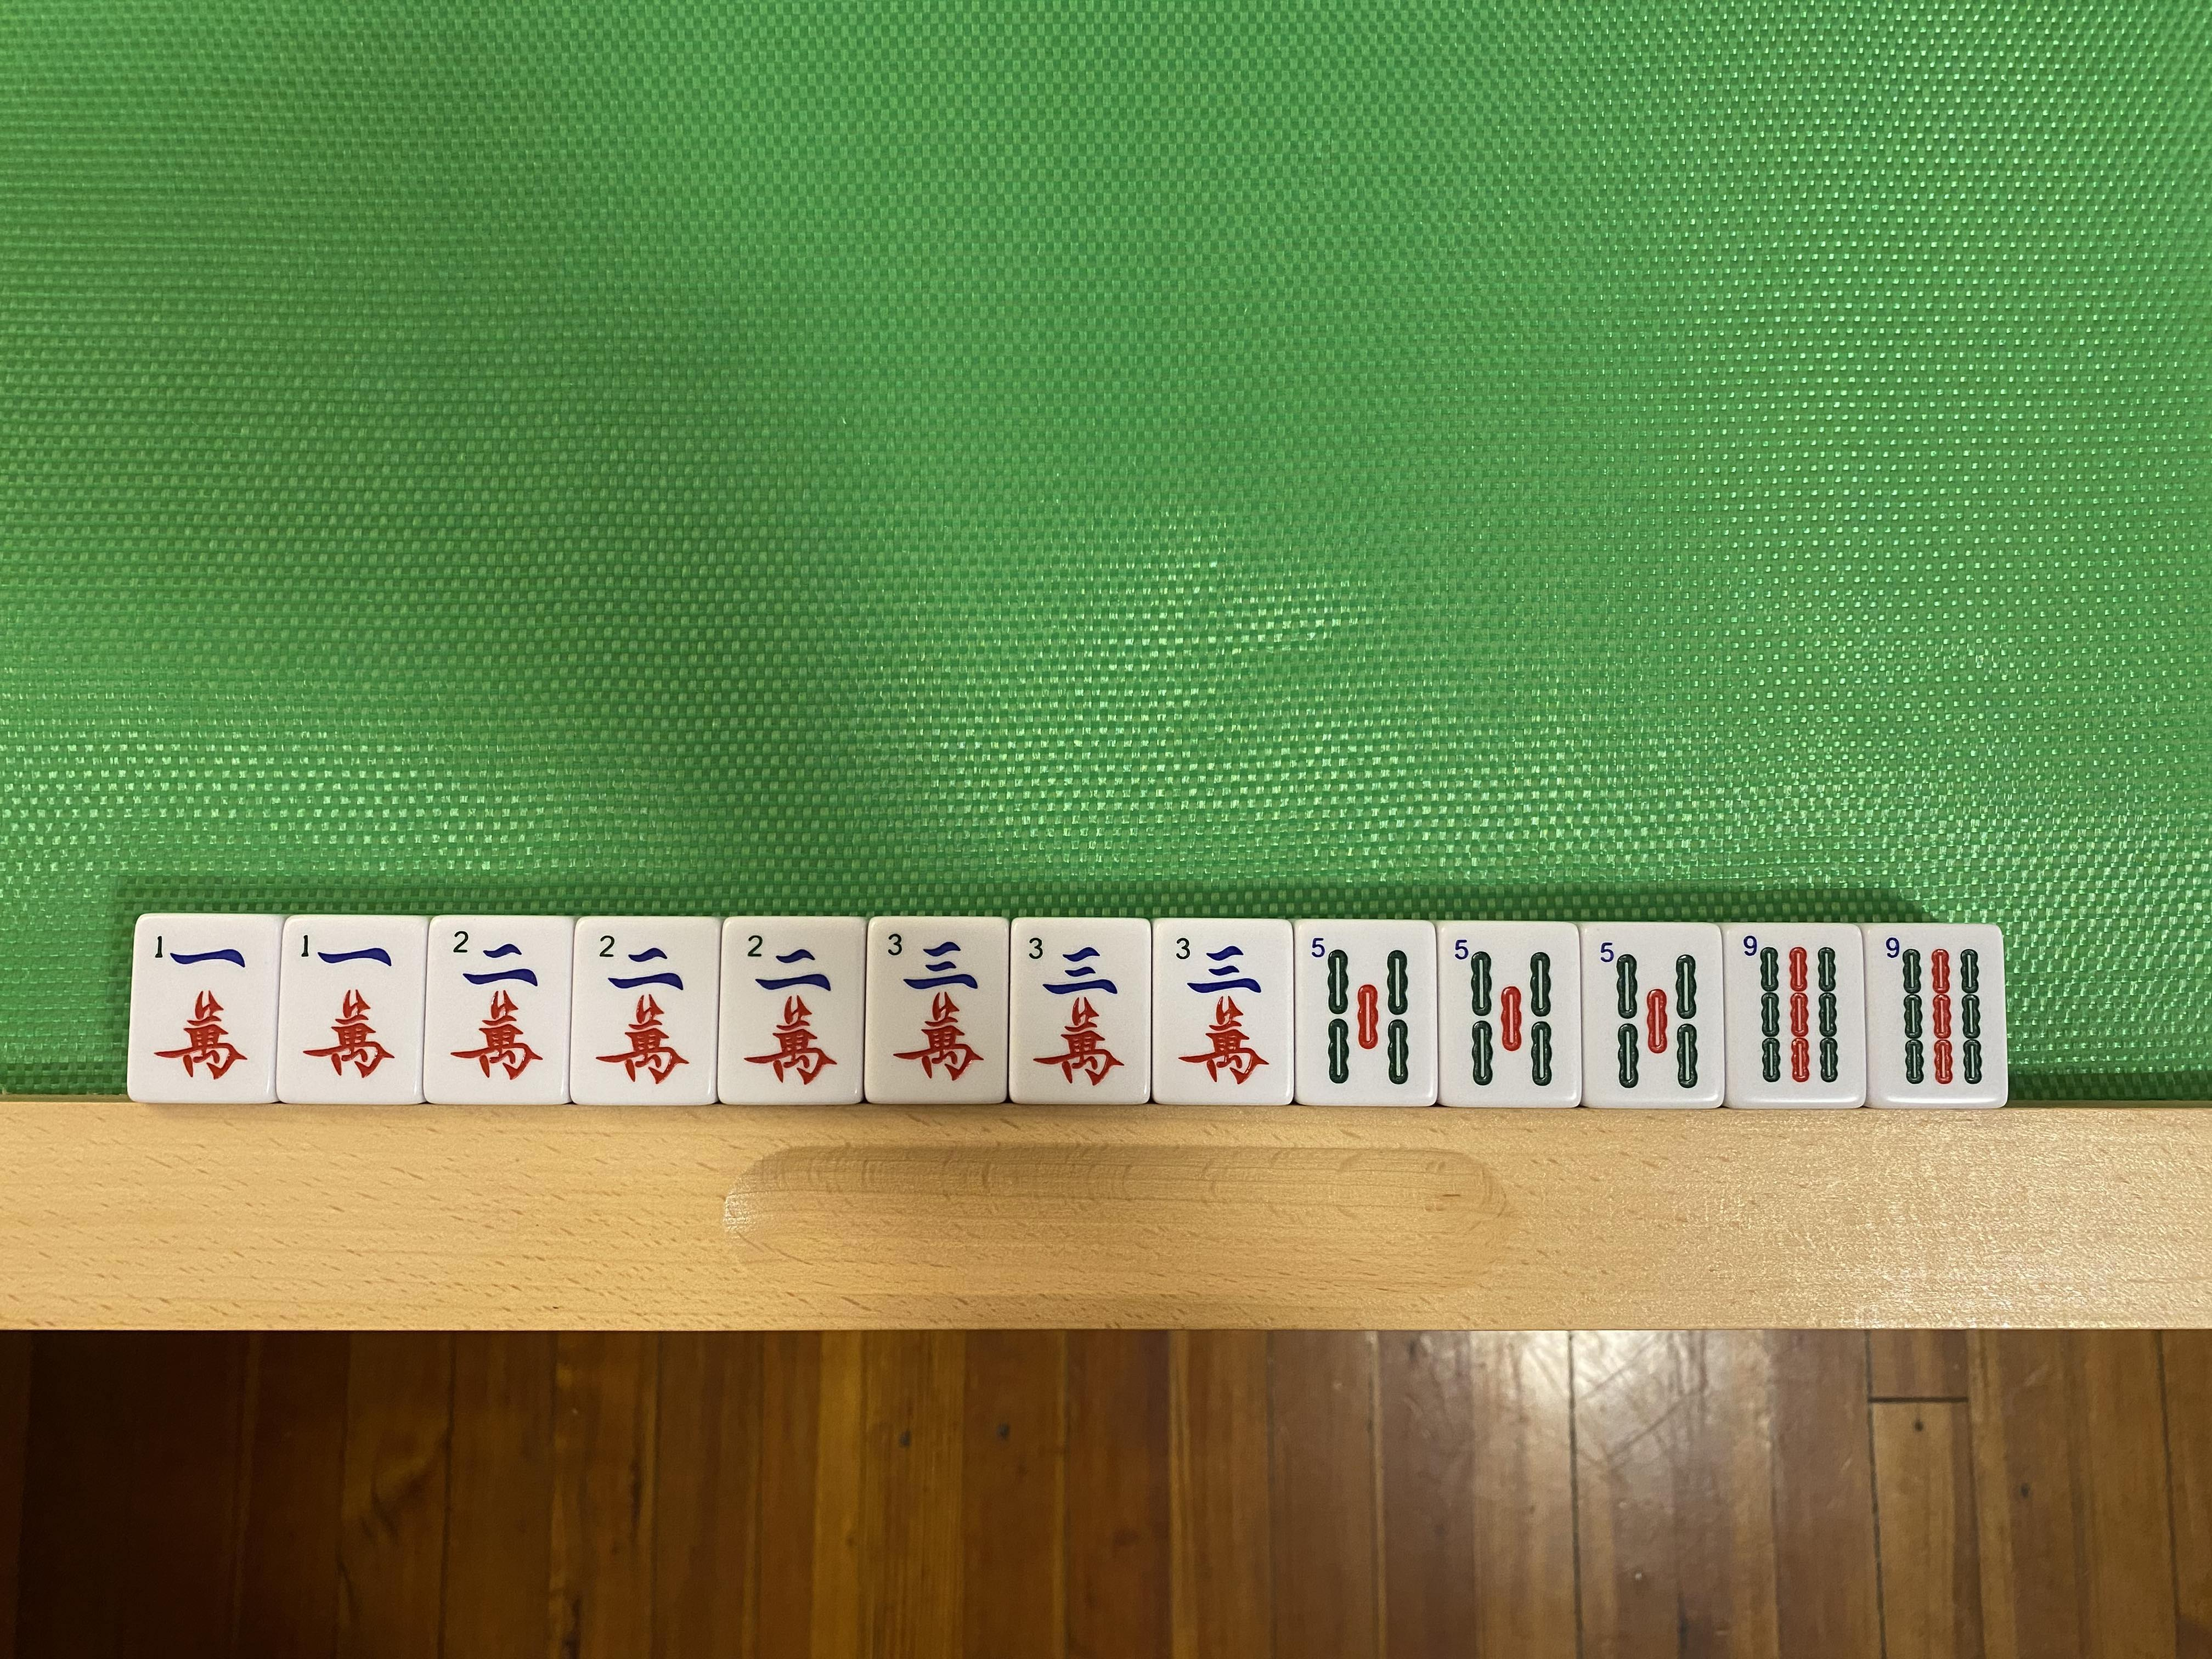bamboo-five: (1301, 931, 1425, 1101), (1588, 934, 1716, 1098), (1449, 934, 1569, 1100)
bamboo-nine: (1735, 934, 1853, 1101), (1874, 932, 1991, 1096)
character-one: (139, 925, 268, 1098), (289, 927, 411, 1096)
character-three: (1015, 931, 1141, 1100), (873, 925, 996, 1096), (1158, 931, 1285, 1096)
character-two: (580, 925, 712, 1100), (728, 924, 859, 1096), (434, 925, 563, 1094)
